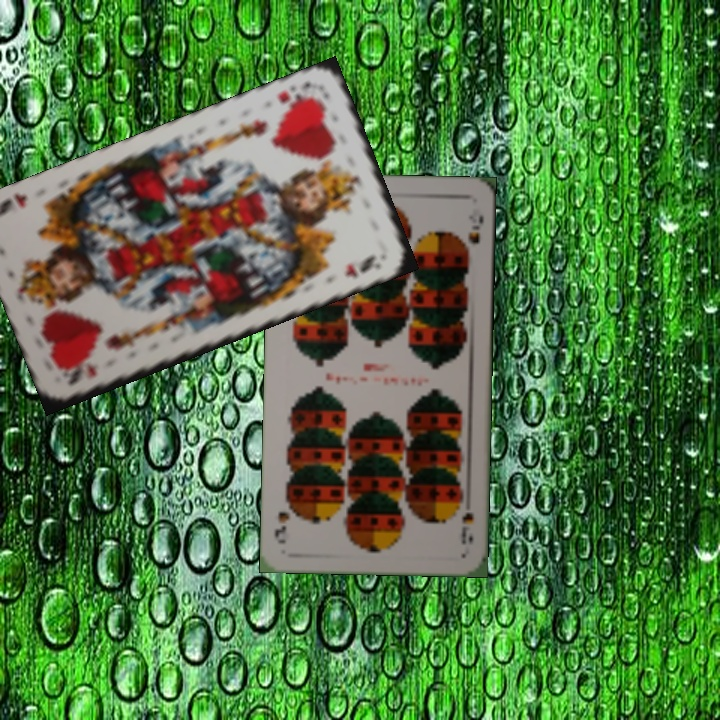HK: (273, 77, 319, 106), (63, 363, 100, 388)
S9: (457, 508, 475, 548)
